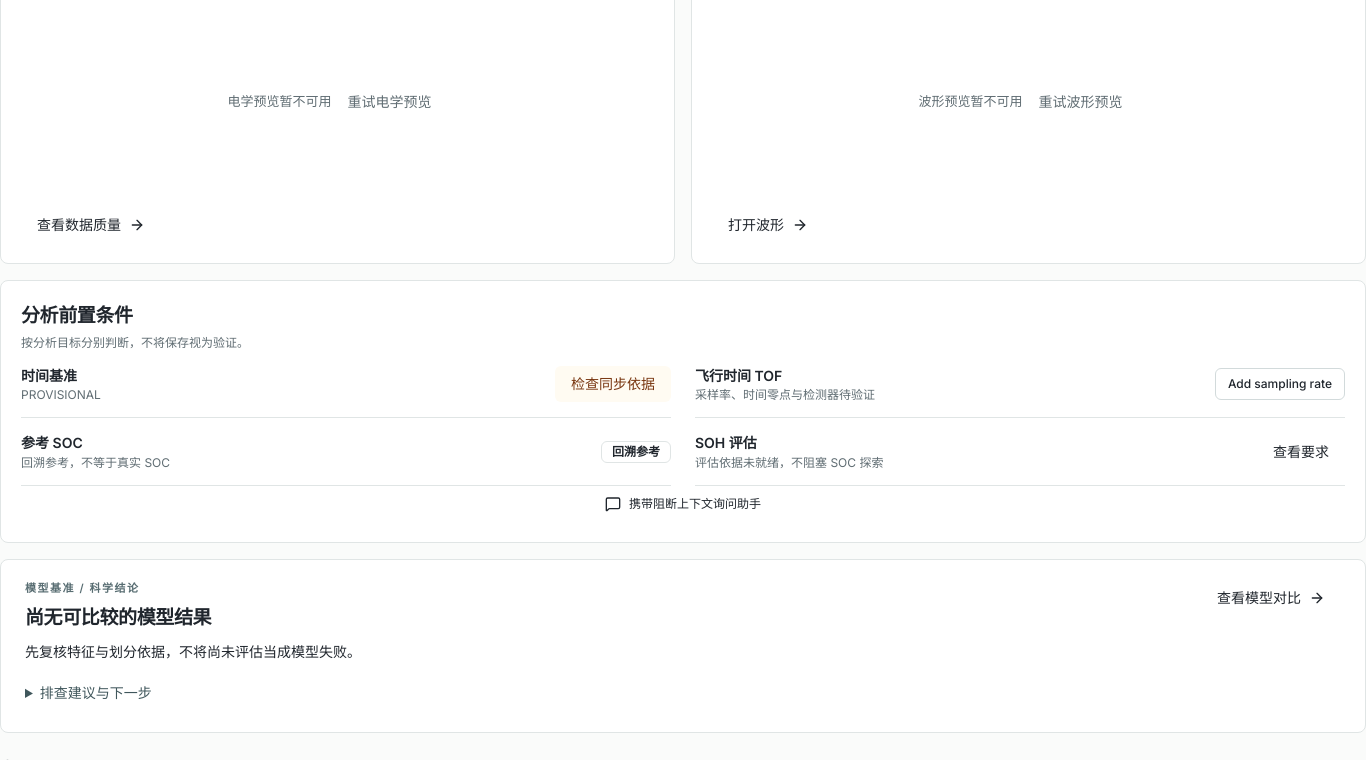
Test: 概览交互闭环 › 采样率保存后刷新状态但不伪造验证通过（BRW-018R2 共享提交服务）
(page scrolled)
Click the button "Add sampling rate" at point(1280, 384), box [1215,368,1345,400]
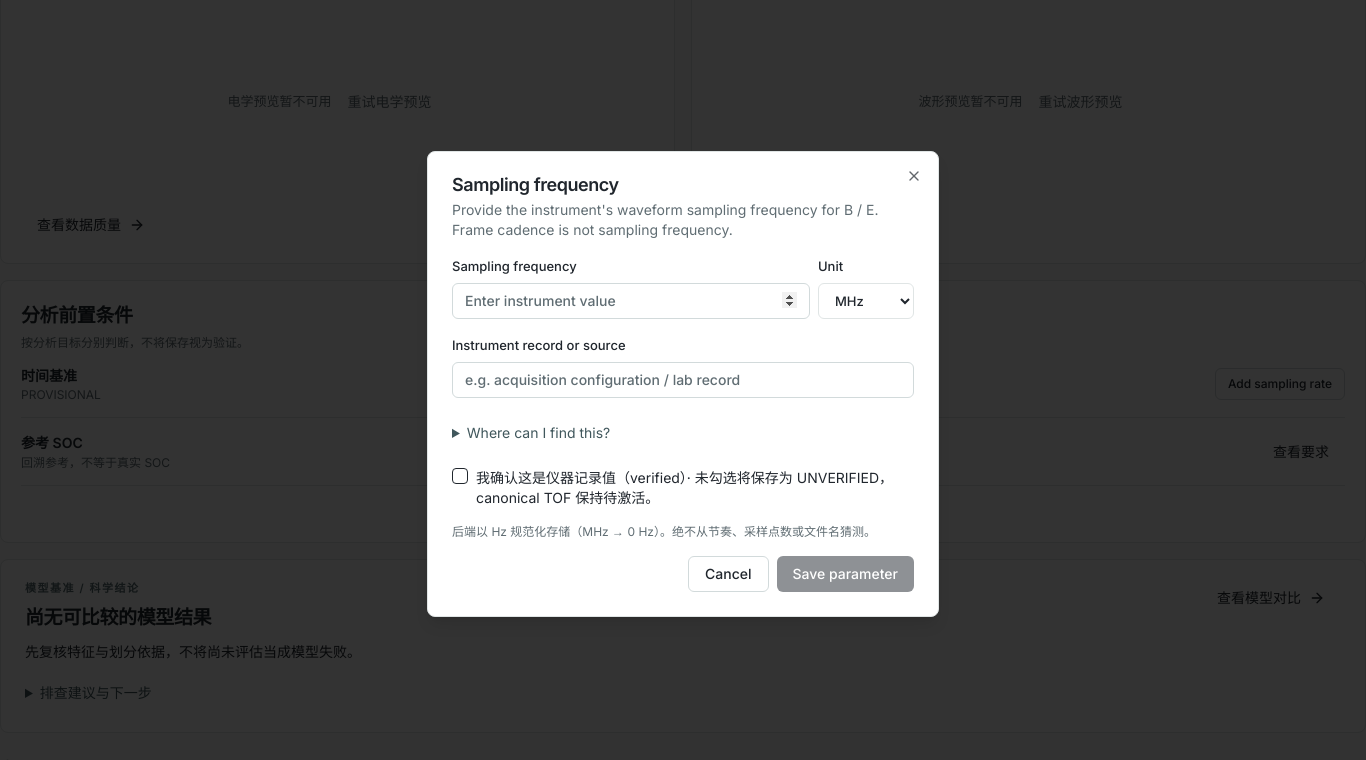
Type "20" into the number field with test id "fs-dialog-value" at point(631, 301), box [452,283,810,319]
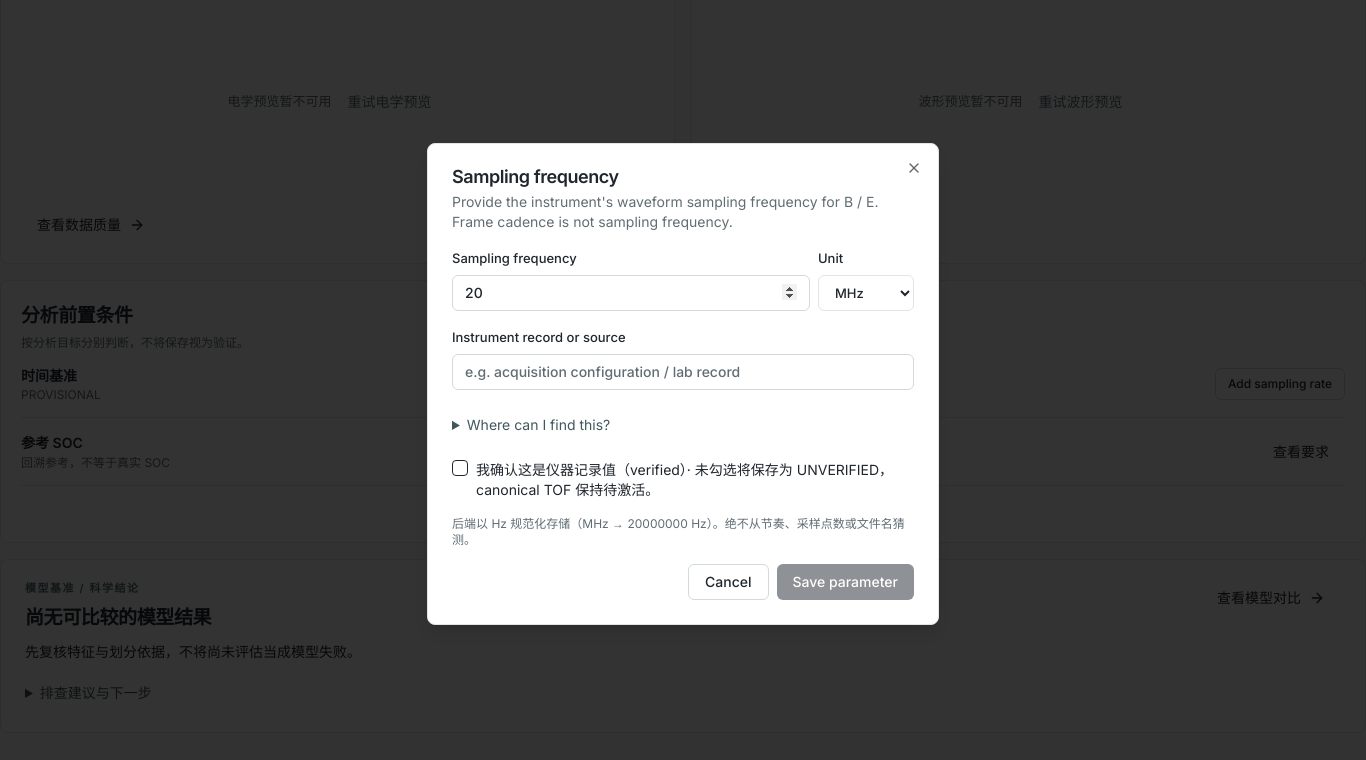
Type "instrument configuration" into the field labelled "Instrument record or source" at point(683, 372), box [452,354,914,390]
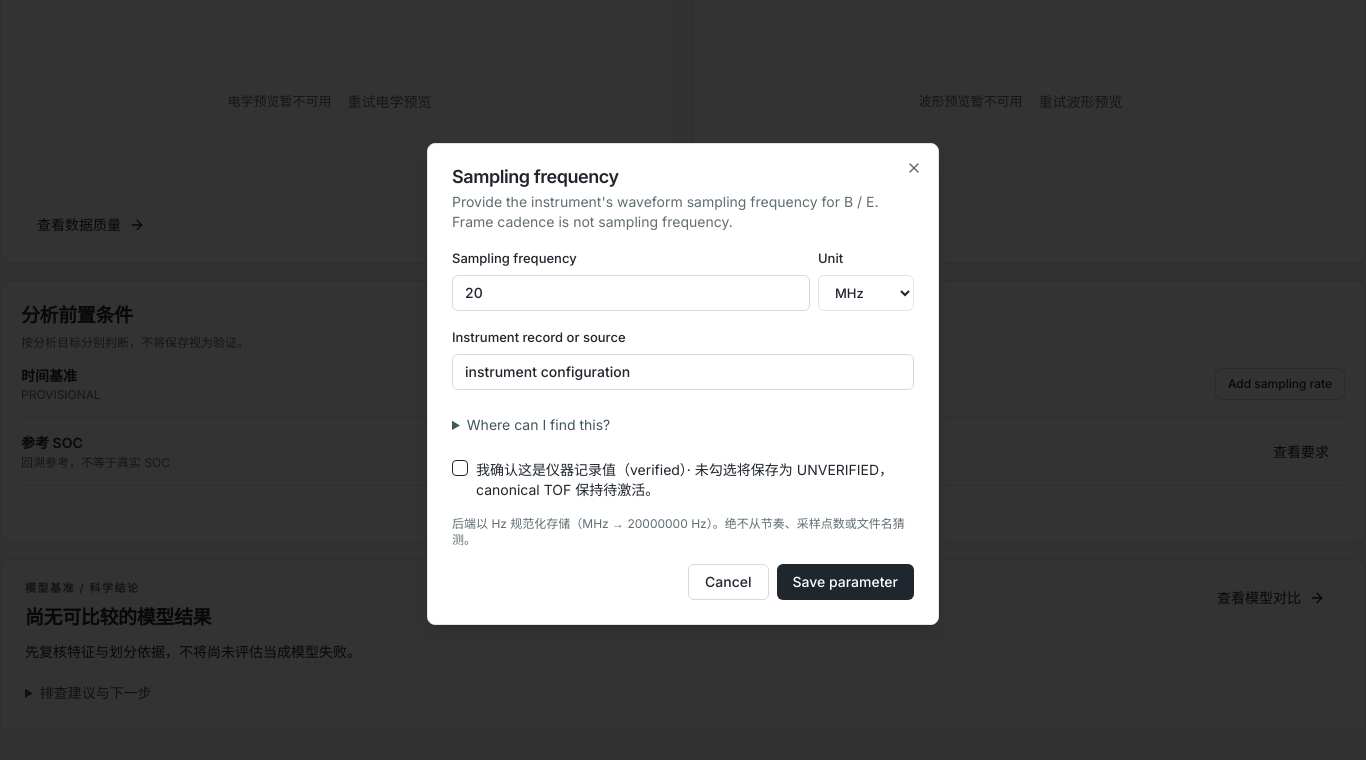
// verified checkbox intentionally NOT checked → honest UNVERIFIED save
Click the button with test id "fs-dialog-save" at point(845, 582), box [776,564,914,600]
(page scrolled)
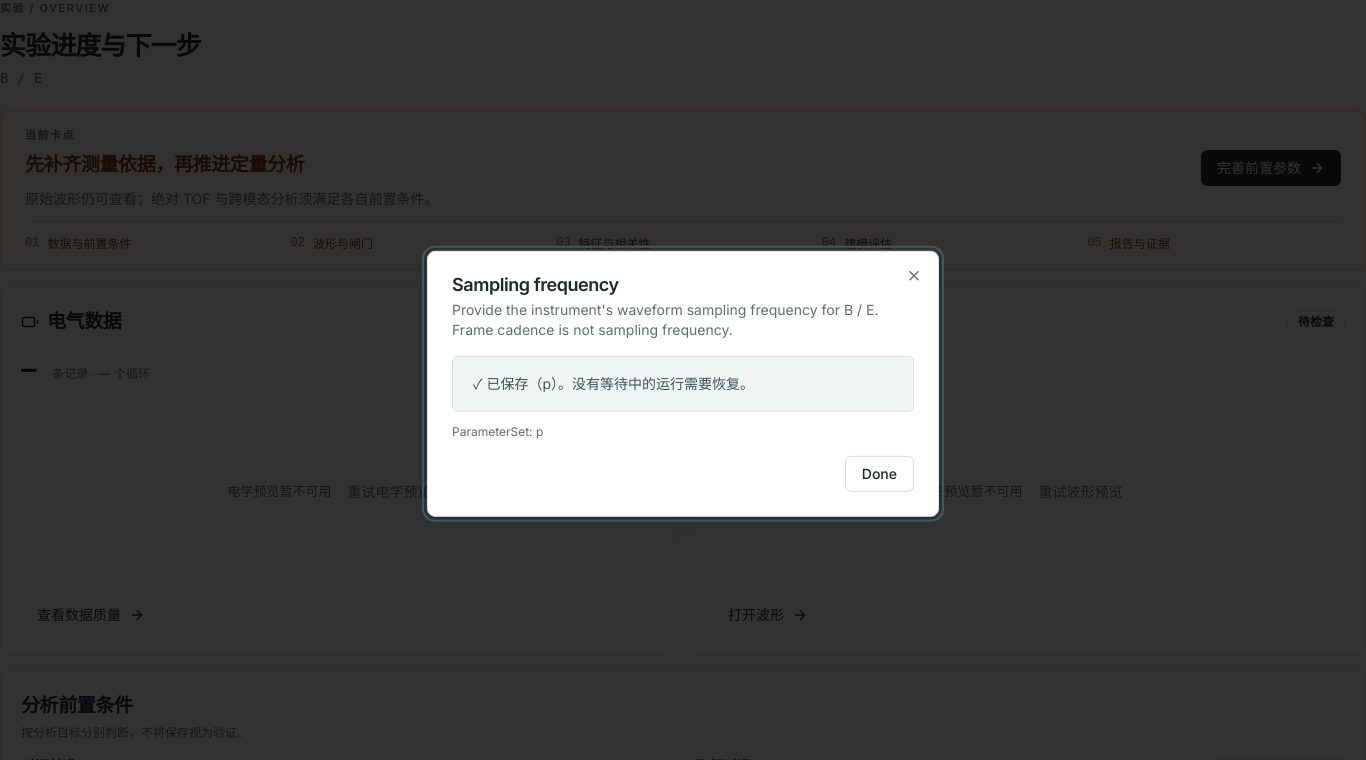
expect the button with test id "overview-primary" reads "完善前置参数": met, box [1201,150,1341,186]
expect the message "✓ 已保存（p）。没有等待中的运行需要恢复。" is shown: met, box [452,356,914,412]
